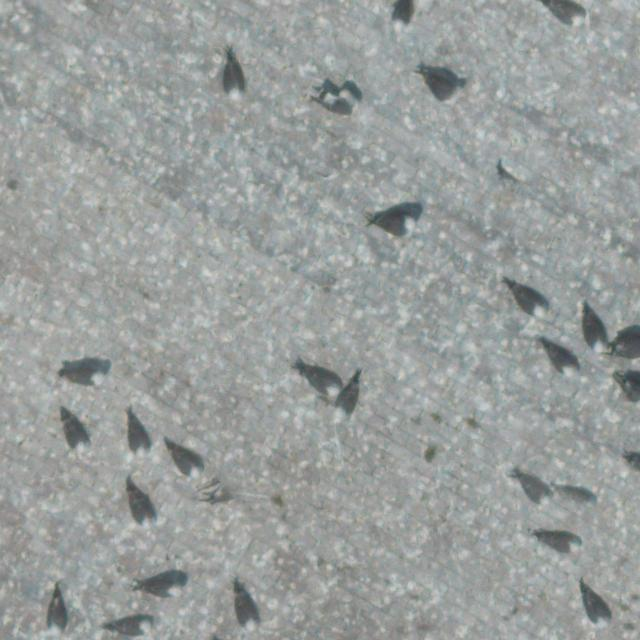umineko: (315, 82, 364, 114), (128, 484, 158, 533), (421, 71, 461, 104), (64, 412, 92, 458), (516, 470, 551, 506), (332, 378, 362, 419), (127, 411, 151, 459), (551, 1, 589, 30), (60, 365, 107, 388), (170, 448, 202, 477), (510, 289, 544, 316), (302, 371, 341, 394), (376, 216, 417, 236), (392, 2, 416, 36), (139, 581, 181, 597), (542, 536, 580, 553), (543, 347, 573, 368), (613, 336, 640, 358), (588, 596, 608, 625), (241, 598, 258, 631), (49, 601, 65, 636), (227, 66, 243, 101)
